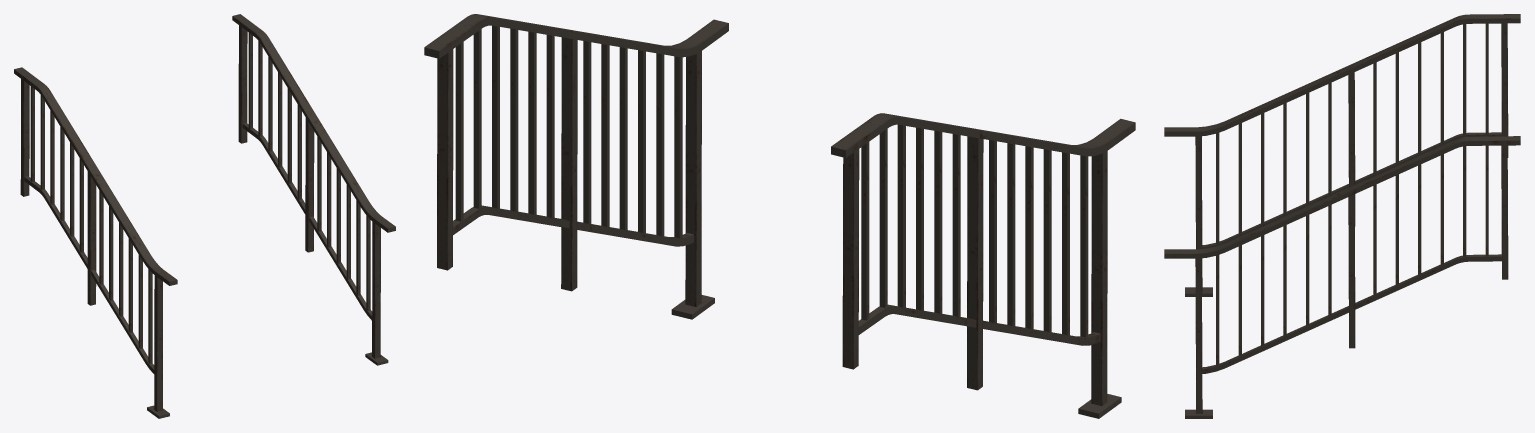
Rendered from Stairs_Rails_Metal.gltf.
3 views of the same model, side by side, from view 1: azimuth 30°, elevation 25°; view 2: azimuth 150°, elevation 25°; view 3: azimuth 270°, elevation 25° (orthographic). The views are drawn at different scales.
Parts seen in each view (by area): view 1: Stairs_Rails_Metal; view 2: Stairs_Rails_Metal; view 3: Stairs_Rails_Metal.
Part boxes in pixels (bbox=[...]): Stairs_Rails_Metal: bbox=[14, 14, 395, 418]; Stairs_Rails_Metal: bbox=[424, 14, 1135, 418]; Stairs_Rails_Metal: bbox=[1164, 14, 1520, 418].
Bounding box in the file's own units: 1.96 × 1.98 × 2.31.
Materials: 1 (1 with a texture image).
